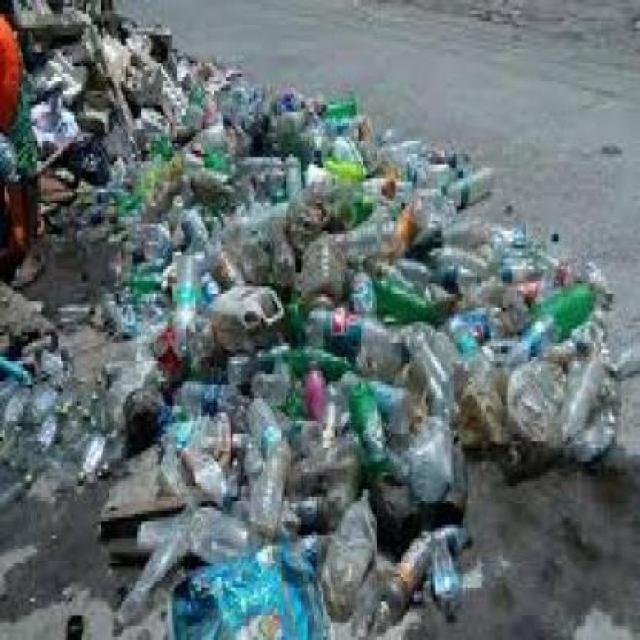garbage: (0, 0, 449, 626), (340, 140, 638, 479)
